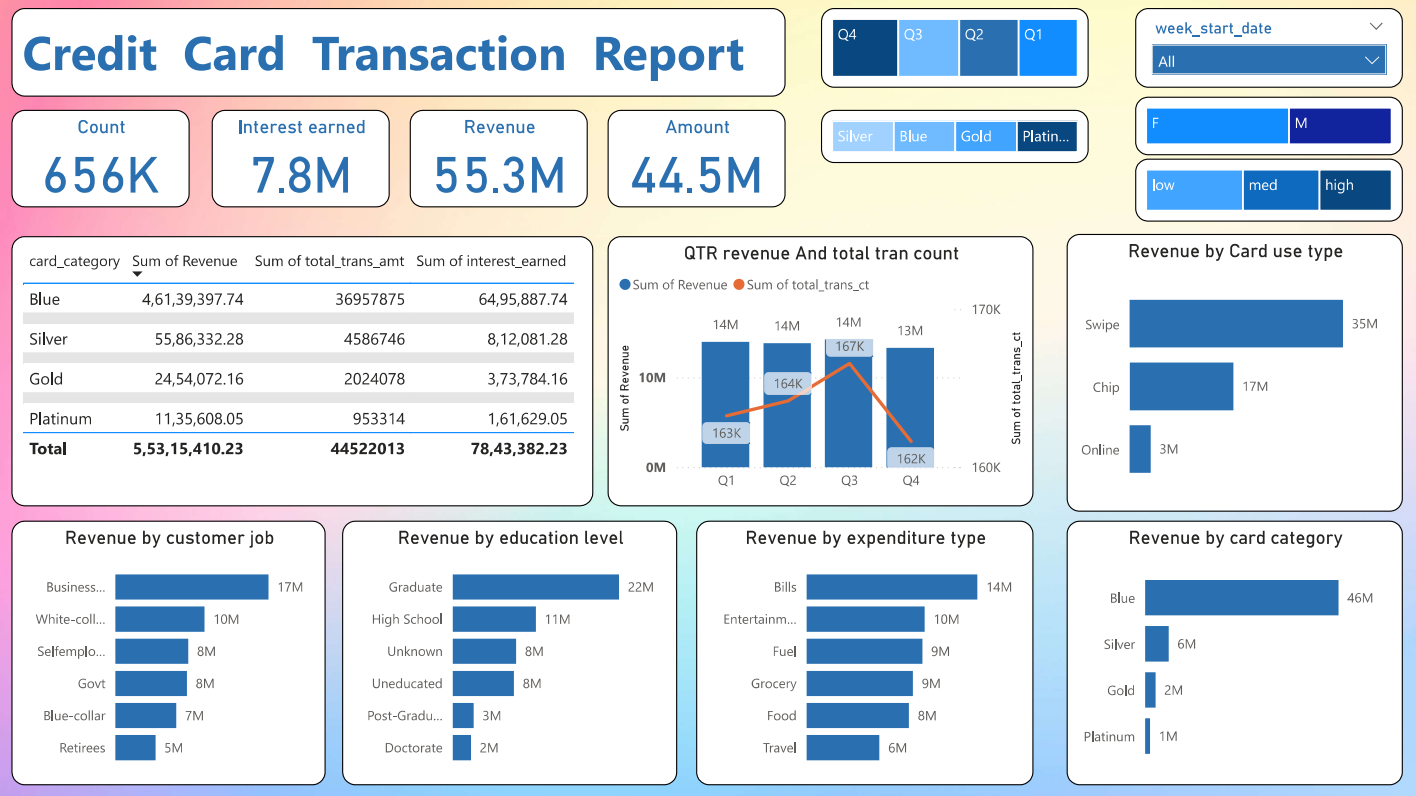

Layout of this report page (visuals, bound fields, positions):
{"tool":"powerbi","page":{"name":"CC Transaction ","canvas":[1280,720],"ordinal":1},"visuals":[{"type":"textbox","box":[10,8.3,700.3,79.7],"z":0},{"type":"lineStackedColumnComboChart","title":"QTR revenue And total tran count","fields":{"Category":["public cc_detail.qtr"],"Y":["Sum(public cc_detail.Revenue)"],"Y2":["Sum(public cc_detail.total_trans_ct)"]},"box":[549.3,214.1,385,243.9],"z":1000},{"type":"barChart","title":"Revenue by expenditure type","fields":{"Y":["Sum(public cc_detail.Revenue)"],"Category":["public cc_detail.exp_type"]},"box":[628.9,471.3,305.3,239],"z":2000},{"type":"barChart","title":"Revenue by education level","fields":{"Y":["Sum(public cc_detail.Revenue)"],"Category":["public cust_detail.education_level"]},"box":[308.7,471.3,303.7,239],"z":3000},{"type":"barChart","title":"Revenue by customer job","fields":{"Y":["Sum(public cc_detail.Revenue)"],"Category":["public cust_detail.customer_job"]},"box":[10,471.3,283.8,239],"z":4000},{"type":"barChart","title":"Revenue by card category ","fields":{"Y":["Sum(public cc_detail.Revenue)"],"Category":["public cc_detail.card_category"]},"box":[964.2,471.3,303.7,239],"z":5000},{"type":"barChart","title":"Revenue by Card use type","fields":{"Y":["Sum(public cc_detail.Revenue)"],"Category":["public cc_detail.use_chip"]},"box":[964.2,212.4,303.7,250.6],"z":6000},{"type":"tableEx","fields":{"Values":["public cc_detail.card_category","Sum(public cc_detail.Revenue)","Sum(public cc_detail.total_trans_amt)","Sum(public cc_detail.interest_earned)"]},"box":[10,214.1,526.1,243.9],"z":7000},{"type":"card","title":"Revenue","fields":{"Values":["Sum(public cc_detail.Revenue)"]},"box":[370.1,99.6,161,88],"z":8000},{"type":"card","title":"Amount ","fields":{"Values":["Sum(public cc_detail.total_trans_amt)"]},"box":[549.3,99.6,161,88],"z":9000},{"type":"card","title":"Interest earned","fields":{"Values":["Sum(public cc_detail.interest_earned)"]},"box":[190.8,99.6,161,88],"z":10000},{"type":"card","title":"Count","fields":{"Values":["Sum(public cc_detail.total_trans_ct)"]},"box":[10,99.6,161,88],"z":11000},{"type":"slicer","fields":{"Values":["public cc_detail.week_start_date"]},"box":[1025.6,8.3,242.3,71.4],"z":12000},{"type":"treemap","fields":{"Group":["public cc_detail.qtr"],"Values":["Avg(public cc_detail.client_num)"]},"box":[741.8,8.3,242.3,71.4],"z":13000},{"type":"treemap","fields":{"Group":["public cust_detail.gender"],"Values":["CountNonNull(public cust_detail.gender)"]},"box":[1025.6,88,242.3,53.1],"z":14000},{"type":"treemap","fields":{"Group":["public cc_detail.card_category"],"Values":["Avg(public cc_detail.client_num)"]},"box":[741.8,99.6,242.3,48.1],"z":15000},{"type":"treemap","fields":{"Group":["public cust_detail.IncomeGroup"],"Values":["CountNonNull(public cust_detail.gender)"]},"box":[1025.6,144.4,242.3,56.4],"z":16000}]}

Visuals, with their boxes in screenshot pixels (x1, y1, x2, y2), scaled from the page's 1280x720 canvas onto the 1416x796 screenshot:
textbox: crop(11, 9, 786, 97)
"QTR revenue And total tran count" lineStackedColumnComboChart: crop(608, 237, 1034, 506)
"Revenue by expenditure type" barChart: crop(696, 521, 1033, 785)
"Revenue by education level" barChart: crop(341, 521, 677, 785)
"Revenue by customer job" barChart: crop(11, 521, 325, 785)
"Revenue by card category " barChart: crop(1067, 521, 1403, 785)
"Revenue by Card use type" barChart: crop(1067, 235, 1403, 512)
tableEx - public cc_detail.card_category x Sum(public cc_detail.Revenue): crop(11, 237, 593, 506)
"Revenue" card: crop(409, 110, 588, 207)
"Amount " card: crop(608, 110, 786, 207)
"Interest earned" card: crop(211, 110, 389, 207)
"Count" card: crop(11, 110, 189, 207)
slicer - public cc_detail.week_start_date: crop(1135, 9, 1403, 88)
treemap - public cc_detail.qtr x Avg(public cc_detail.client_num): crop(821, 9, 1089, 88)
treemap - public cust_detail.gender x CountNonNull(public cust_detail.gender): crop(1135, 97, 1403, 156)
treemap - public cc_detail.card_category x Avg(public cc_detail.client_num): crop(821, 110, 1089, 163)
treemap - public cust_detail.IncomeGroup x CountNonNull(public cust_detail.gender): crop(1135, 160, 1403, 222)
